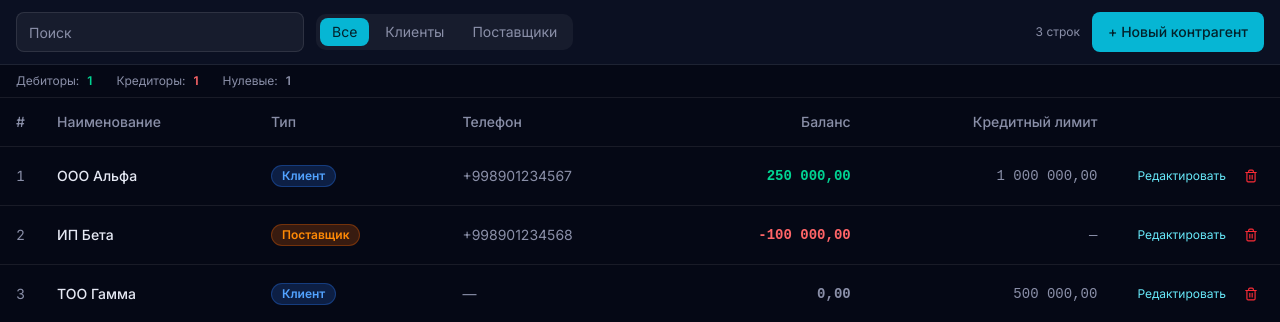
Test: CounterpartiesPage › фильтрует по типу Customer при клике на "Клиенты"
Check: the text "ООО Альфа" is shown, box [41,146,255,205]
Click the button "Клиенты" at (415, 32), box [373,18,456,46]
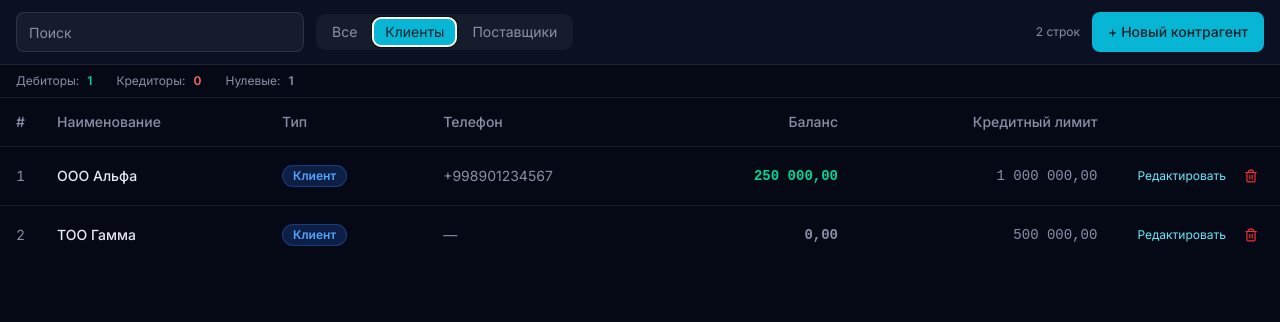
Check: the text "ООО Альфа" is shown, box [41,146,266,205]
Check: the text "ИП Бета" is gone
